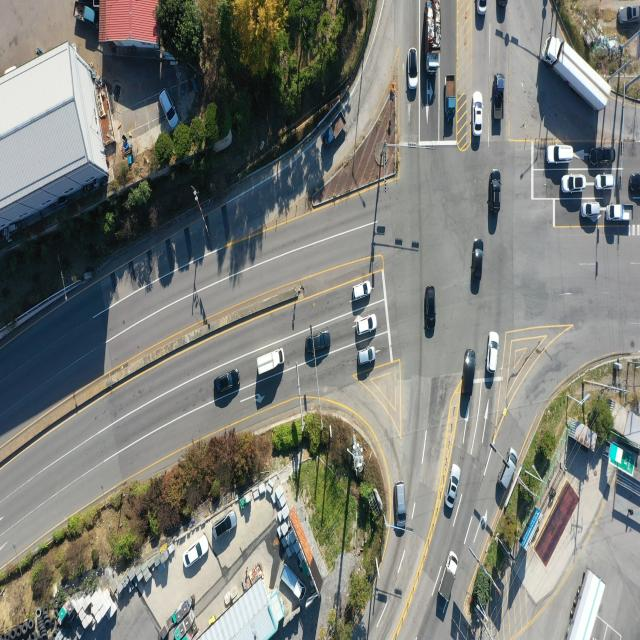car: (184, 538, 210, 570), (462, 348, 478, 397), (502, 447, 520, 490), (394, 476, 407, 535), (159, 91, 177, 132), (446, 464, 462, 509), (213, 510, 236, 539), (213, 370, 239, 395), (305, 331, 332, 355), (425, 285, 437, 339), (548, 144, 574, 164), (488, 332, 499, 377), (560, 175, 586, 194), (588, 147, 613, 166), (356, 314, 377, 336), (618, 4, 640, 25), (352, 280, 372, 302), (472, 92, 482, 134), (410, 48, 420, 90), (490, 172, 500, 212), (356, 346, 375, 367), (582, 202, 602, 220), (595, 174, 615, 191), (473, 246, 482, 282), (630, 176, 640, 199), (479, 0, 488, 15)
medium_truck: (541, 34, 610, 116), (564, 571, 605, 640), (424, 0, 442, 75)
small_truck: (436, 549, 457, 604), (256, 347, 286, 378), (280, 568, 307, 600), (325, 116, 348, 148), (74, 1, 97, 27), (493, 73, 504, 119), (608, 205, 634, 223), (446, 77, 457, 119)
